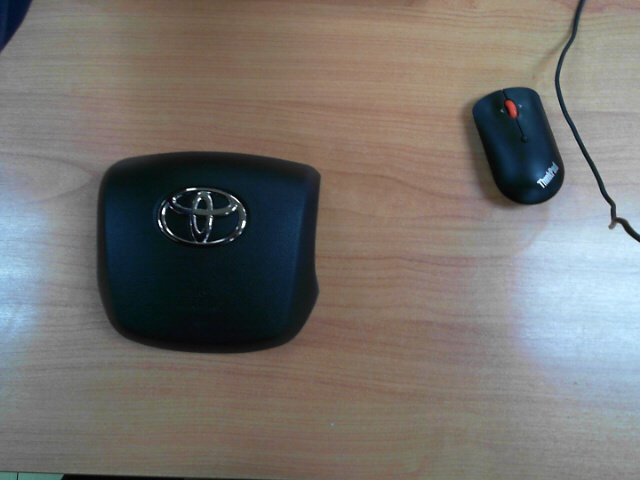AirbagV2: (95, 149, 320, 356)
